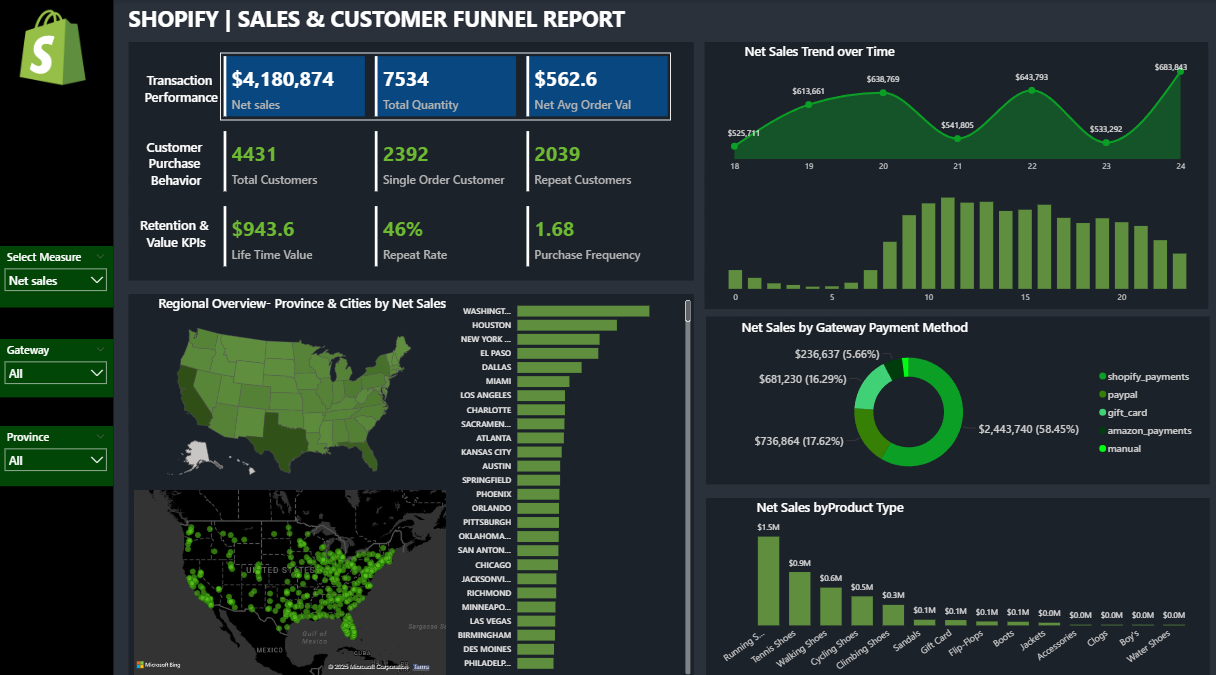

This screenshot's page, from the dashboard's own definition file:
{"tool":"powerbi","page":{"name":"Page 1","canvas":[1800,1000],"ordinal":0},"visuals":[{"type":"shape","box":[0,0,170,999.2],"z":0},{"type":"textbox","box":[170.1,0,775.4,61.9],"z":1000},{"type":"shape","box":[192.2,61.9,832.9,351.3],"z":2000},{"type":"cardVisual","fields":{"Data":["shopify_sales.Net sales","shopify_sales.Total Quantity","shopify_sales.Net Avg Order Val"]},"box":[327,77.3,665,99.4],"z":3000},{"type":"card","fields":{"Values":["shopify_sales.Transaction Perf"]},"box":[209.9,92.8,119.3,72.9],"z":4000},{"type":"cardVisual","fields":{"Data":["shopify_sales.Total Customers","shopify_sales.Single Order Customer","shopify_sales.Repeat Customers"]},"box":[327,187.8,665,99.4],"z":5000},{"type":"card","fields":{"Values":["shopify_sales.Customer Purchase Behavior"]},"box":[194.4,185.6,134.8,101.6],"z":6000},{"type":"cardVisual","fields":{"Data":["shopify_sales.Life Time Value","shopify_sales.Repeat Rate","shopify_sales.Purchase Frequency"]},"box":[327,298.2,665,99.4],"z":7000},{"type":"card","fields":{"Values":["shopify_sales.Retention & Value KPIs"]},"box":[193.7,292.3,134.8,101.6],"z":8000},{"type":"shape","box":[192.2,433,832.9,565.6],"z":9000},{"type":"shapeMap","fields":{"Value":["shopify_sales.Net sales"],"Category":["shopify_sales.Billing Address Province"]},"box":[192.2,466.1,472.8,249.6],"z":10000},{"type":"slicer","fields":{"Values":["Select Measure.Select Measure"]},"box":[0,362.3,170.1,90.6],"z":11000},{"type":"map","fields":{"Category":["shopify_sales.LocationCorrect"]},"box":[194.4,715.8,470.6,282.8],"z":12000},{"type":"clusteredBarChart","fields":{"Y":["shopify_sales.Net sales"],"Category":["shopify_sales.CITY"]},"box":[660.5,428.6,364.5,570],"z":13000},{"type":"card","fields":{"Values":["shopify_sales.Map Title"]},"box":[194.4,428.6,505.9,37.6],"z":14000},{"type":"shape","box":[1040.5,61.9,742.3,393.2],"z":15000},{"type":"areaChart","fields":{"Y":["shopify_sales.Net sales"],"Category":["shopify_sales.Invoice Date.Variation.Date Hierarchy.Day"]},"box":[1069.2,79.5,687.1,183.4],"z":16000},{"type":"columnChart","fields":{"Y":["shopify_sales.Net sales"],"Category":["shopify_sales.Hour"]},"box":[1069.2,262.9,687.1,192.2],"z":17000},{"type":"card","fields":{"Values":["shopify_sales.Trend Title"]},"box":[1040.5,61.9,338,30.9],"z":18000},{"type":"shape","box":[1042.7,466.1,742.3,247.4],"z":19000},{"type":"donutChart","fields":{"Y":["shopify_sales.Net sales"],"Category":["shopify_sales.Gateway"]},"box":[1056,499.3,715.8,214.3],"z":20000},{"type":"card","fields":{"Values":["shopify_sales.Gateway Title"]},"box":[1042.7,468.3,437.4,30.9],"z":21000},{"type":"shape","box":[1042.7,733.4,742.3,265.1],"z":21001},{"type":"columnChart","fields":{"Category":["shopify_sales.Product Type"],"Y":["shopify_sales.Net sales"]},"box":[1060.4,748.9,711.4,251.8],"z":21002},{"type":"card","fields":{"Values":["shopify_sales.Product Title"]},"box":[1040.5,724.6,368.9,46.4],"z":21003},{"type":"image","box":[13.3,8.8,134.8,121.5],"z":21004},{"type":"slicer","fields":{"Values":["shopify_sales.Gateway"]},"box":[0,499.3,170.1,86.2],"z":21005},{"type":"slicer","fields":{"Values":["shopify_sales.Billing Address Province"]},"box":[0,627.4,170.1,88.4],"z":21006}]}

Visuals, with their boxes on the page's 1800x1000 design canvas (x1, y1, x2, y2). These are canvas units, not pixel positions in the 1216x675 screenshot, which may show the page scaled, cropped or inside an application window:
shape: x1=0, y1=0, x2=170, y2=999
textbox: x1=170, y1=0, x2=946, y2=62
shape: x1=192, y1=62, x2=1025, y2=413
cardVisual - shopify_sales.Net sales x shopify_sales.Total Quantity: x1=327, y1=77, x2=992, y2=177
card - shopify_sales.Transaction Perf: x1=210, y1=93, x2=329, y2=166
cardVisual - shopify_sales.Total Customers x shopify_sales.Single Order Customer: x1=327, y1=188, x2=992, y2=287
card - shopify_sales.Customer Purchase Behavior: x1=194, y1=186, x2=329, y2=287
cardVisual - shopify_sales.Life Time Value x shopify_sales.Repeat Rate: x1=327, y1=298, x2=992, y2=398
card - shopify_sales.Retention & Value KPIs: x1=194, y1=292, x2=328, y2=394
shape: x1=192, y1=433, x2=1025, y2=999
shapeMap - shopify_sales.Net sales x shopify_sales.Billing Address Province: x1=192, y1=466, x2=665, y2=716
slicer - Select Measure.Select Measure: x1=0, y1=362, x2=170, y2=453
map - shopify_sales.LocationCorrect: x1=194, y1=716, x2=665, y2=999
clusteredBarChart - shopify_sales.Net sales x shopify_sales.CITY: x1=660, y1=429, x2=1025, y2=999
card - shopify_sales.Map Title: x1=194, y1=429, x2=700, y2=466
shape: x1=1040, y1=62, x2=1783, y2=455
areaChart - shopify_sales.Net sales x shopify_sales.Invoice Date.Variation.Date Hierarchy.Day: x1=1069, y1=80, x2=1756, y2=263
columnChart - shopify_sales.Net sales x shopify_sales.Hour: x1=1069, y1=263, x2=1756, y2=455
card - shopify_sales.Trend Title: x1=1040, y1=62, x2=1378, y2=93
shape: x1=1043, y1=466, x2=1785, y2=714
donutChart - shopify_sales.Net sales x shopify_sales.Gateway: x1=1056, y1=499, x2=1772, y2=714
card - shopify_sales.Gateway Title: x1=1043, y1=468, x2=1480, y2=499
shape: x1=1043, y1=733, x2=1785, y2=998
columnChart - shopify_sales.Product Type x shopify_sales.Net sales: x1=1060, y1=749, x2=1772, y2=1001
card - shopify_sales.Product Title: x1=1040, y1=725, x2=1409, y2=771
image: x1=13, y1=9, x2=148, y2=130
slicer - shopify_sales.Gateway: x1=0, y1=499, x2=170, y2=586
slicer - shopify_sales.Billing Address Province: x1=0, y1=627, x2=170, y2=716
